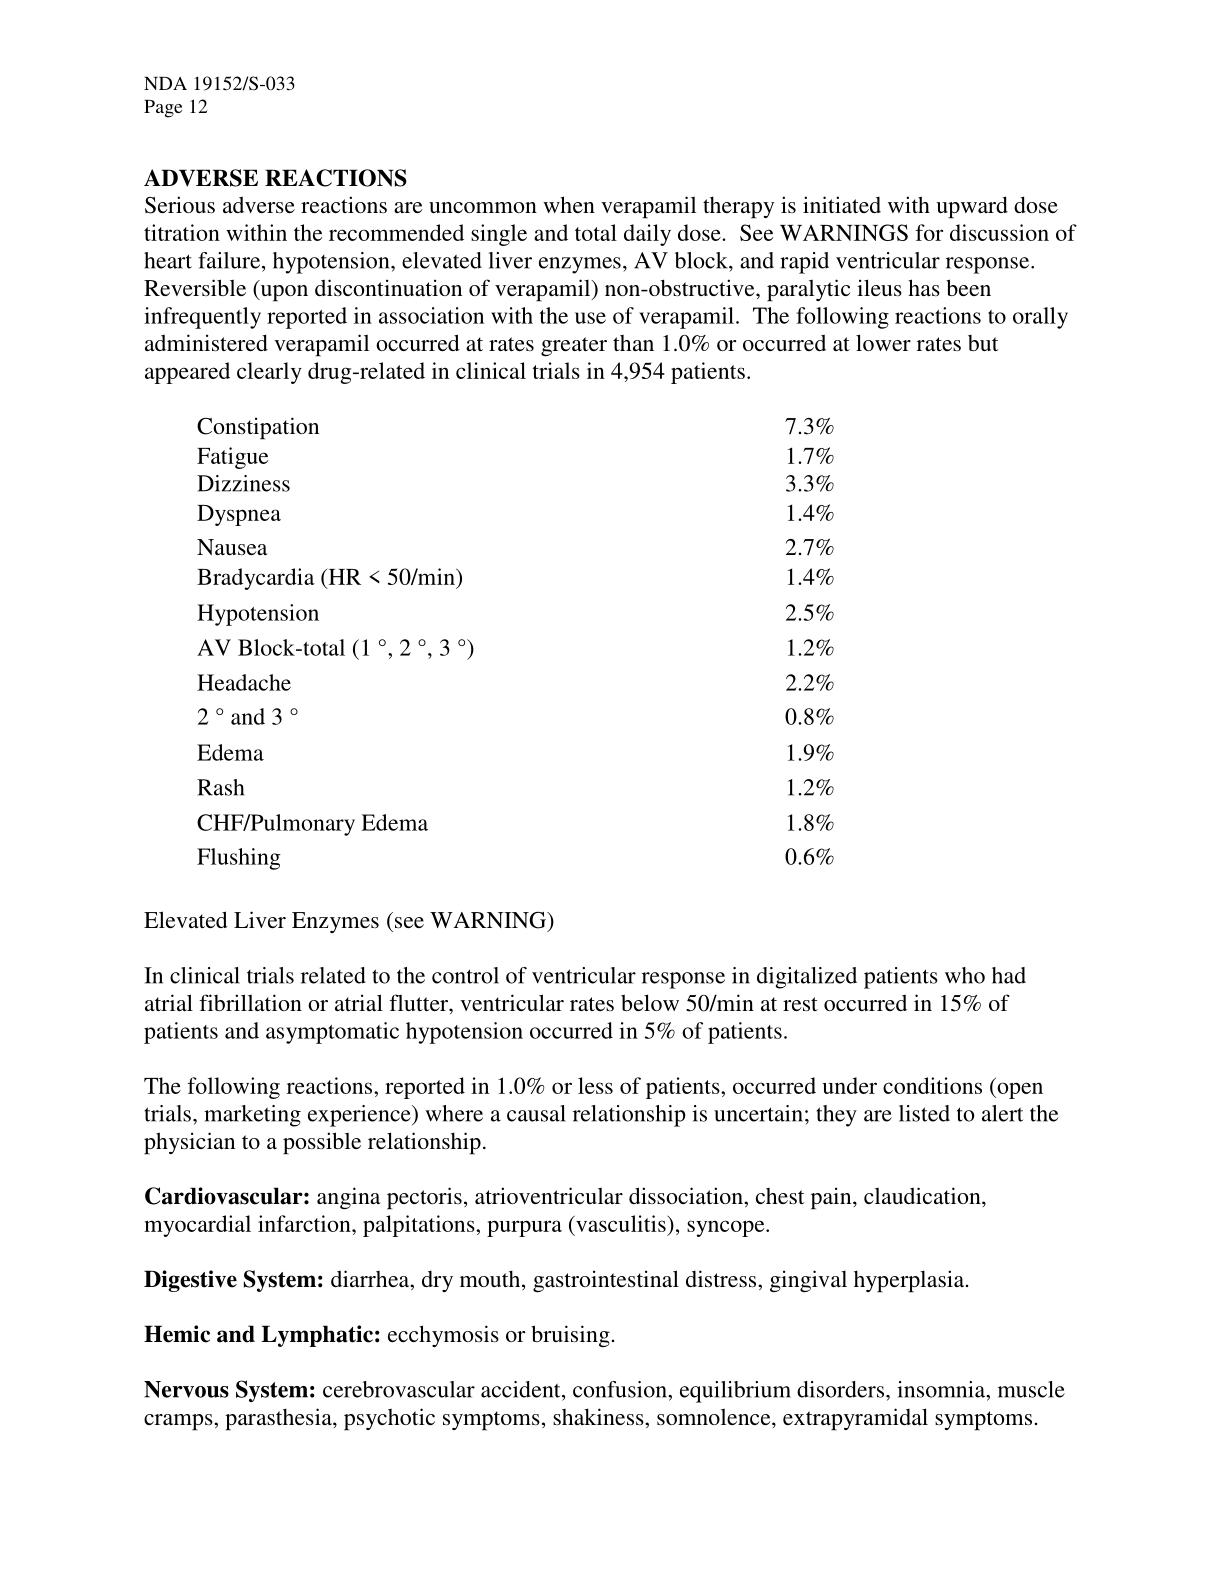nolines: (193, 411, 834, 872)
